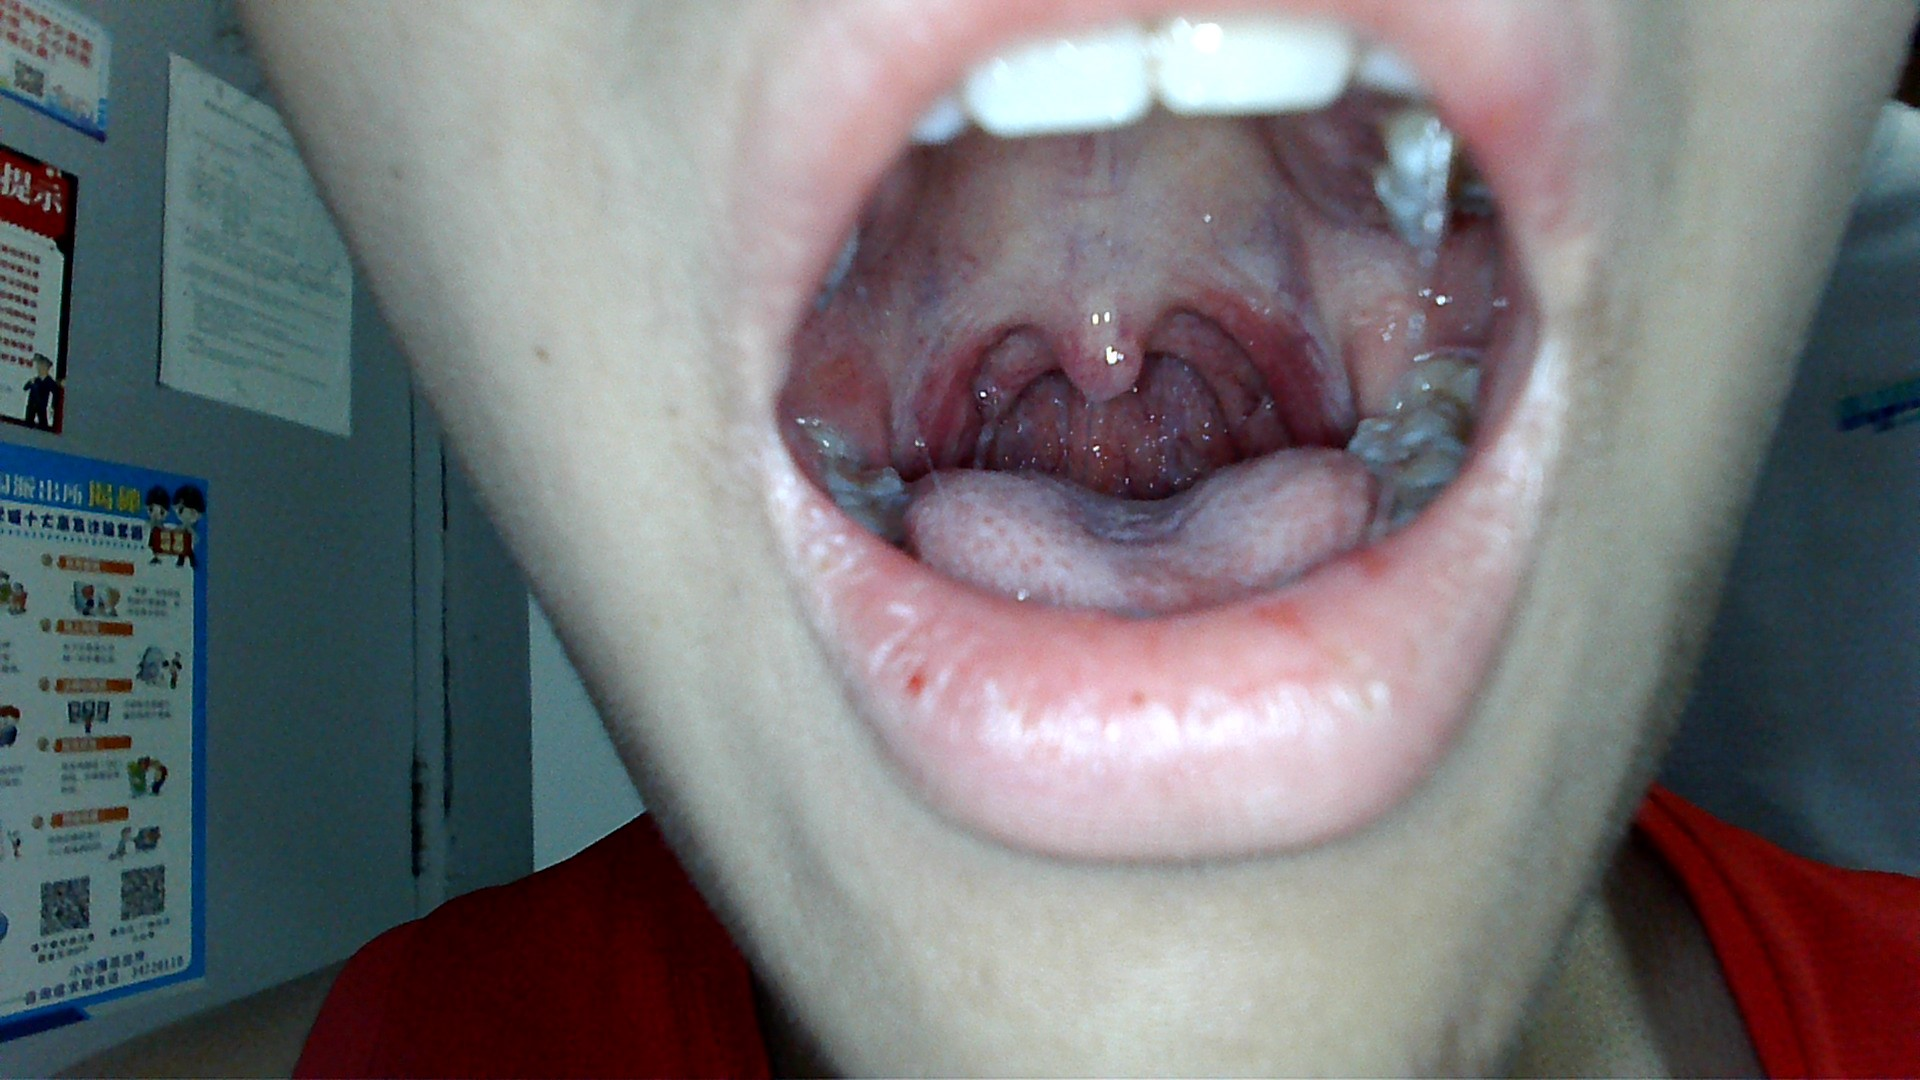throat: (906, 305, 1010, 464), (1211, 291, 1313, 440)
